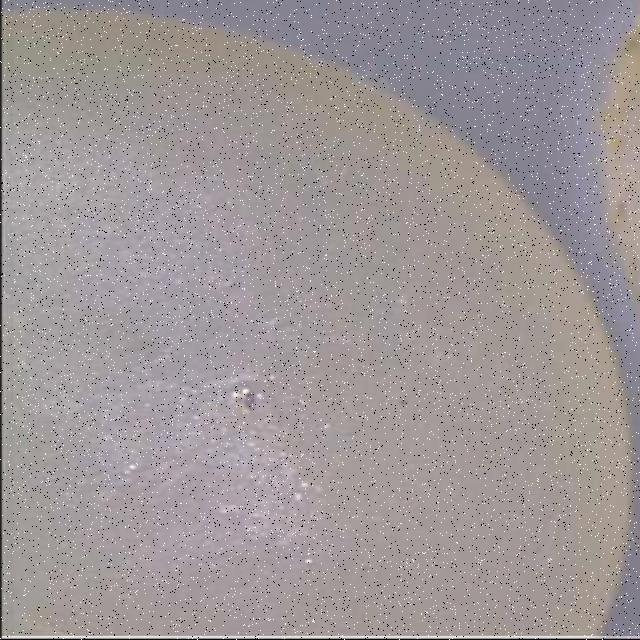beads: (2, 9, 639, 635)
